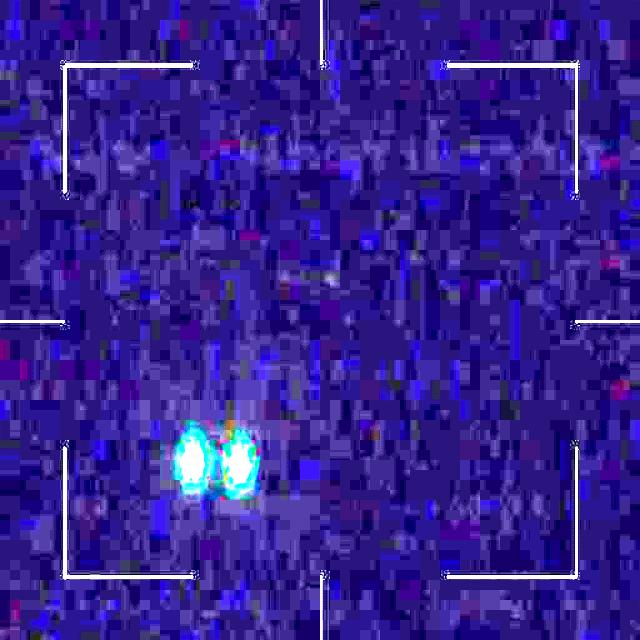bird: (180, 439, 251, 486)
